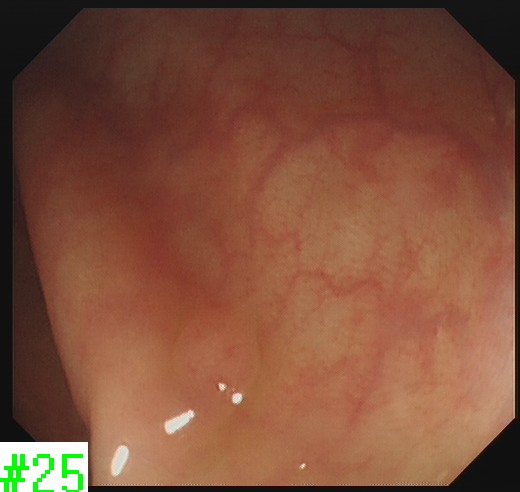others: (165, 305, 266, 412)
